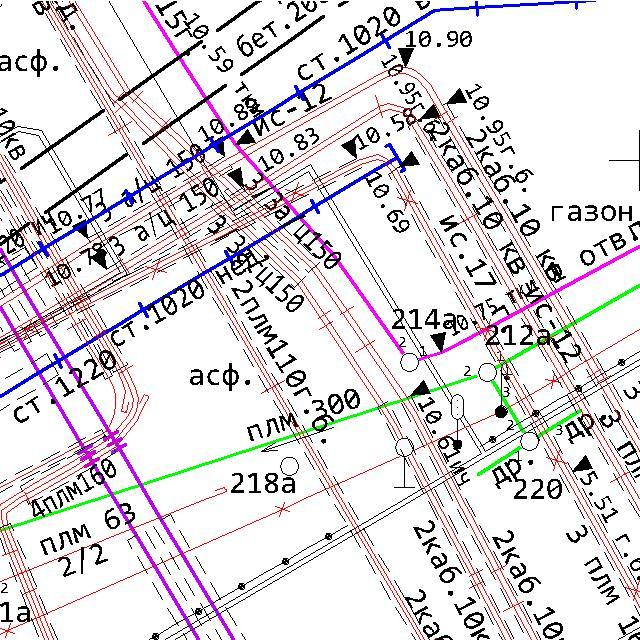asphalt: (184, 360, 254, 393), (0, 48, 61, 78)
mark: (445, 86, 468, 107), (409, 378, 432, 398), (571, 452, 594, 472), (226, 166, 245, 190), (429, 330, 447, 355), (396, 46, 416, 68), (419, 102, 441, 122), (207, 136, 227, 158), (234, 128, 258, 146), (90, 249, 109, 271), (340, 137, 358, 160), (399, 150, 421, 168), (71, 218, 89, 240)
sing: (393, 436, 417, 490)
well: (398, 350, 422, 374), (278, 454, 301, 479), (476, 361, 499, 384), (519, 430, 541, 453)
